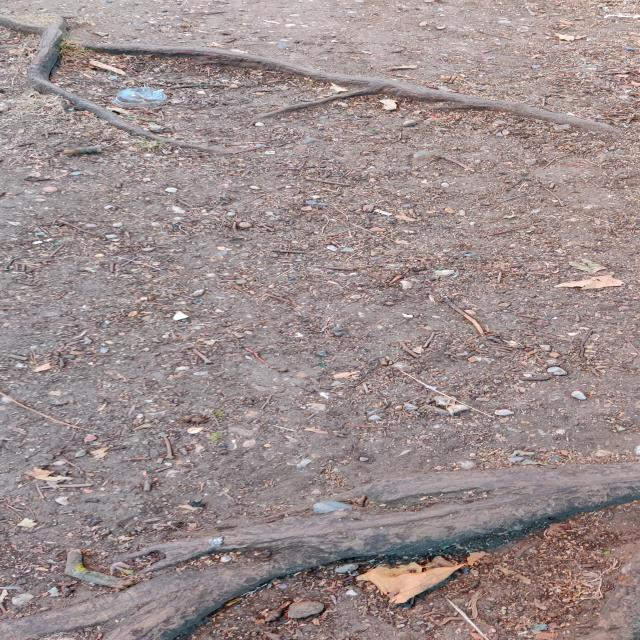litter: (112, 87, 169, 107)
